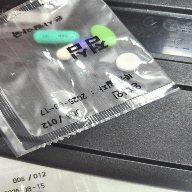러키펜정: (115, 53, 143, 72)
씨엠지세파클러캡슐: (56, 36, 97, 61)
에르도캡슐: (32, 30, 80, 45)
휴티렌정: (90, 25, 117, 47)
